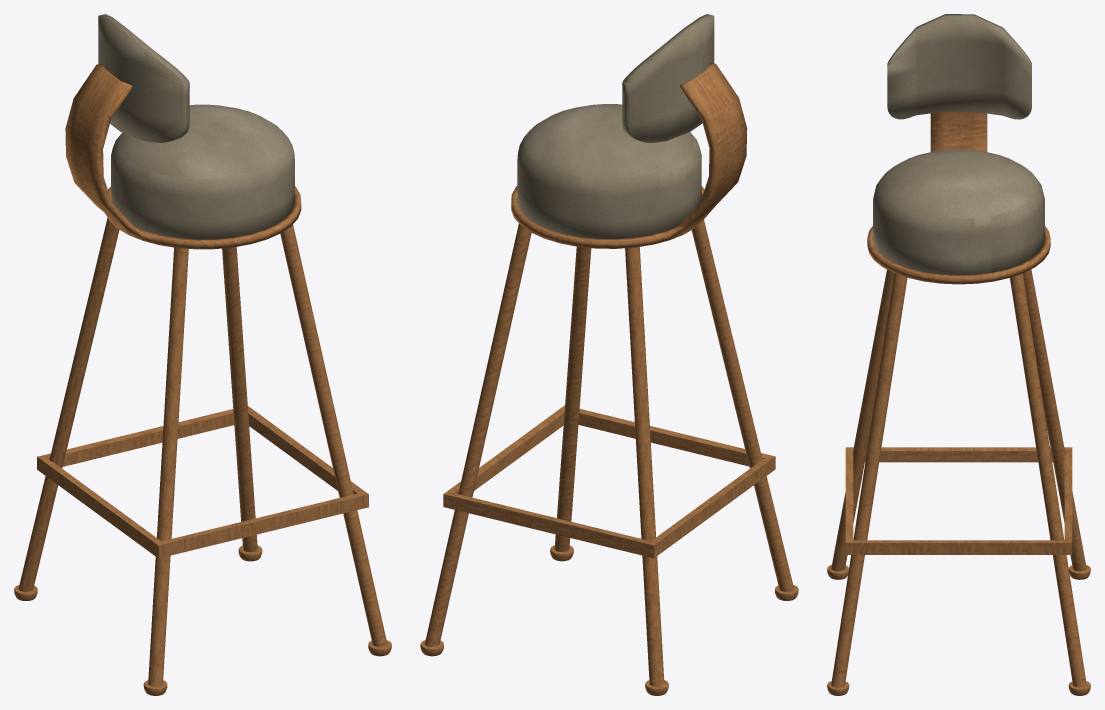
File: long_chair.fbx
3 views of the same model, side by side, from view 1: azimuth 30°, elevation 25°; view 2: azimuth 150°, elevation 25°; view 3: azimuth 270°, elevation 25° (orthographic). The views are drawn at different scales.
Parts seen in each view (by area): view 1: Cube.002; view 2: Cube.002; view 3: Cube.002.
Boxes of the visible parts, x1,y1,x2,y2 form: Cube.002: [14, 14, 391, 695]; Cube.002: [420, 14, 798, 695]; Cube.002: [827, 14, 1090, 695].
Bounding box in the file's own units: 46.06 × 113 × 46.06.
Materials: 1 (1 with a texture image).
